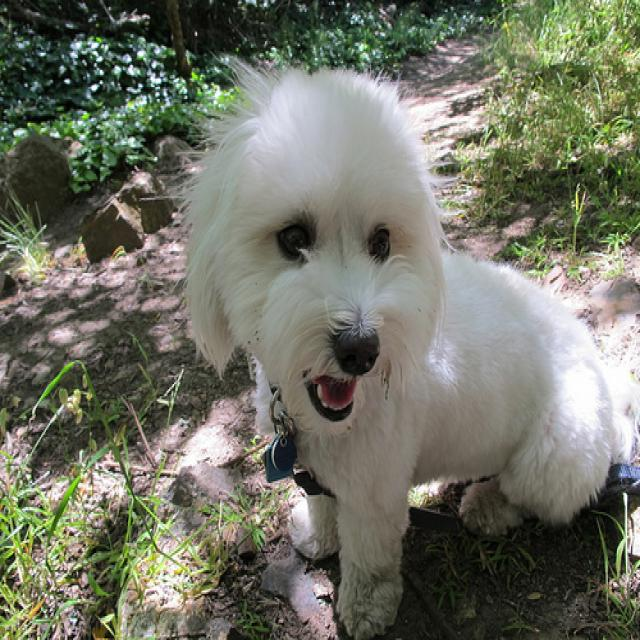dog-havanese: (170, 43, 637, 637)
